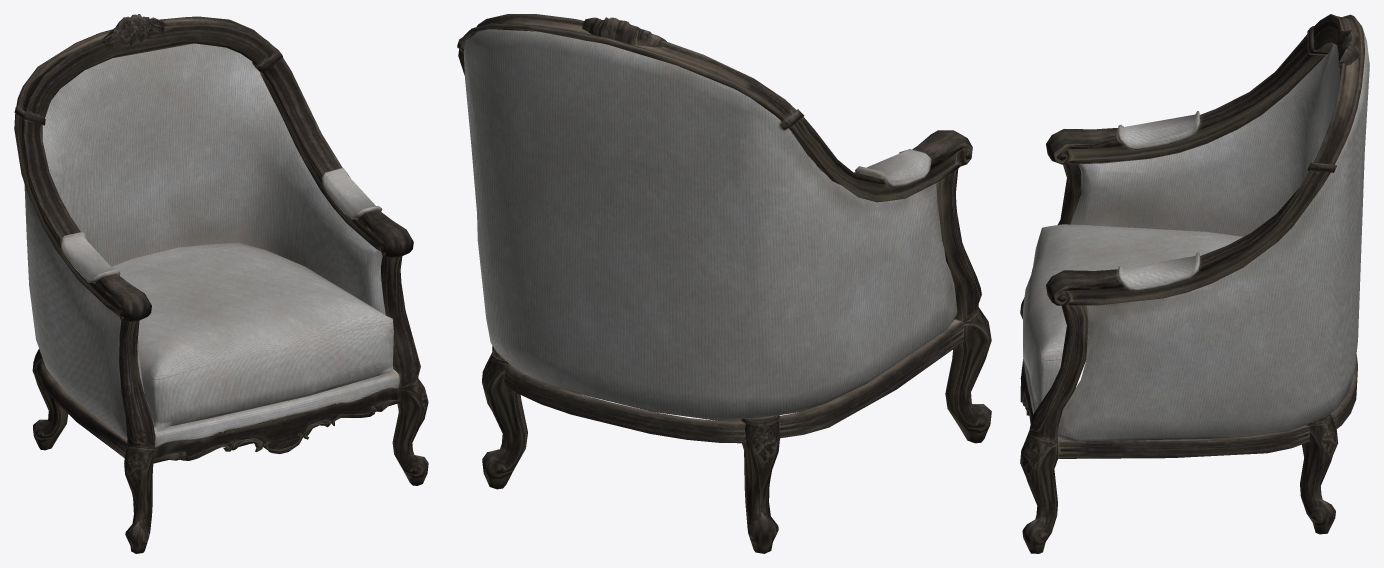
The model's file is ArmChair_01_lod1.glb.
The picture shows the model from 3 angles, left to right: view 1: azimuth 30°, elevation 25°; view 2: azimuth 150°, elevation 25°; view 3: azimuth 270°, elevation 25°; orthographic projection. The views are drawn at different scales.
Visible parts, largest first — view 1: ArmChair_01; view 2: ArmChair_01; view 3: ArmChair_01.
Boxes of the visible parts, x1,y1,x2,y2 form: ArmChair_01: (14,14,428,553); ArmChair_01: (457,14,991,553); ArmChair_01: (1020,14,1369,553).
Bounding box in the file's own units: 0.8482 × 1.06 × 0.7655.
Materials: 1 (1 with a texture image).
